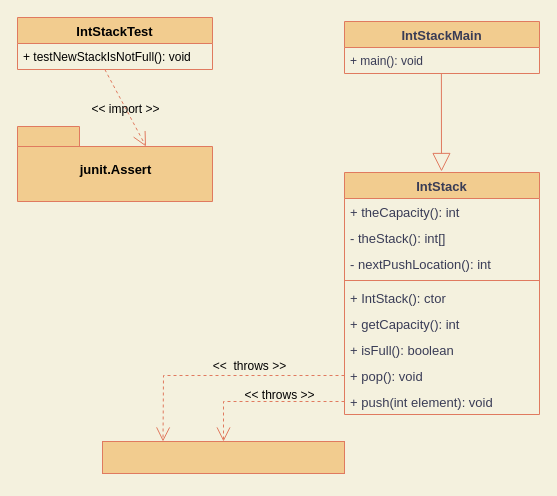
This 557x496 diagram has some shape labels left out. Here are the shapes that lost their labels. From the top down, the centre of each, then its label:
(x=48, y=134): org
(x=223, y=457): ArrayIndexOutOfBoundsException
